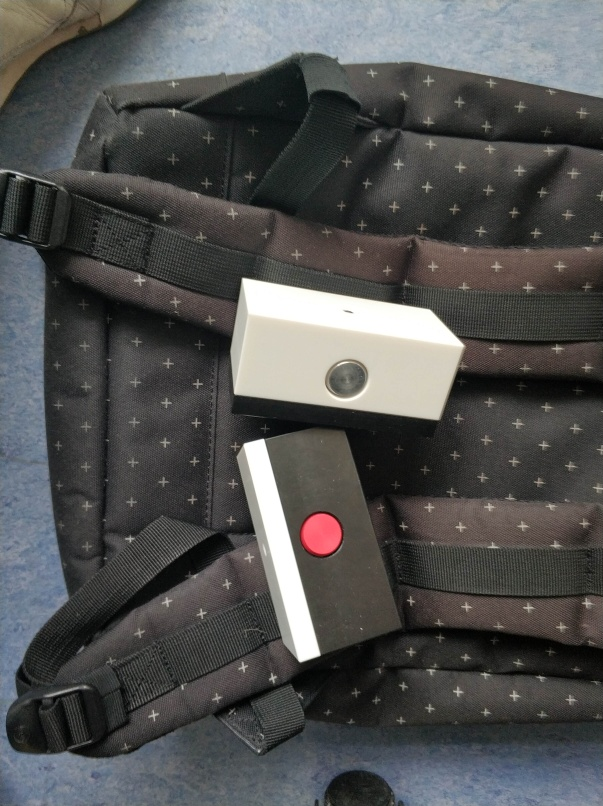black+white+silver: (223, 273, 468, 443)
white+black+red: (229, 429, 404, 666)
